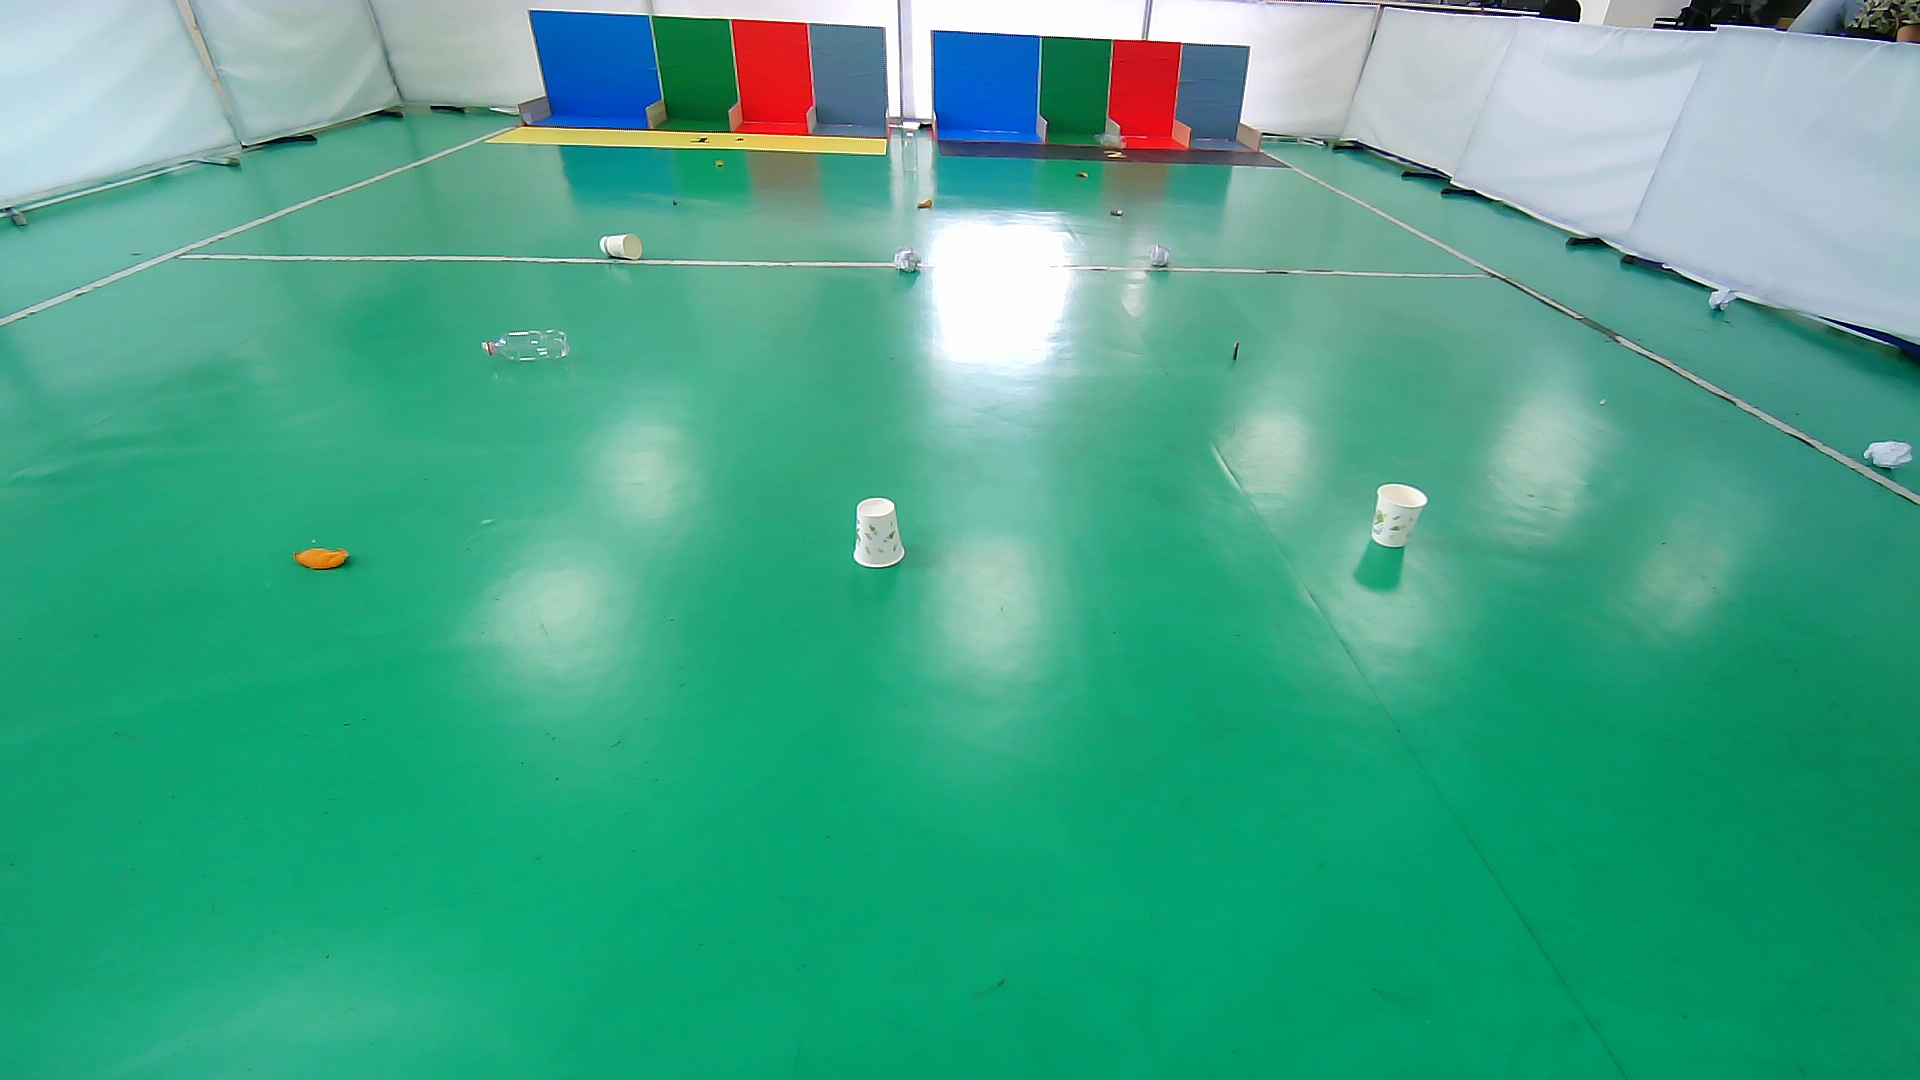battery: (1228, 338, 1244, 364), (665, 193, 684, 211), (1106, 204, 1127, 222)
bottle: (477, 324, 574, 367), (899, 128, 919, 173)
orangepeel: (289, 541, 353, 576), (707, 152, 732, 173), (913, 196, 936, 212)
papercup: (1365, 481, 1433, 556), (847, 492, 909, 574), (596, 229, 646, 261)
spitball: (1865, 436, 1913, 472), (891, 244, 923, 276), (1706, 287, 1739, 316), (1143, 241, 1175, 269)
